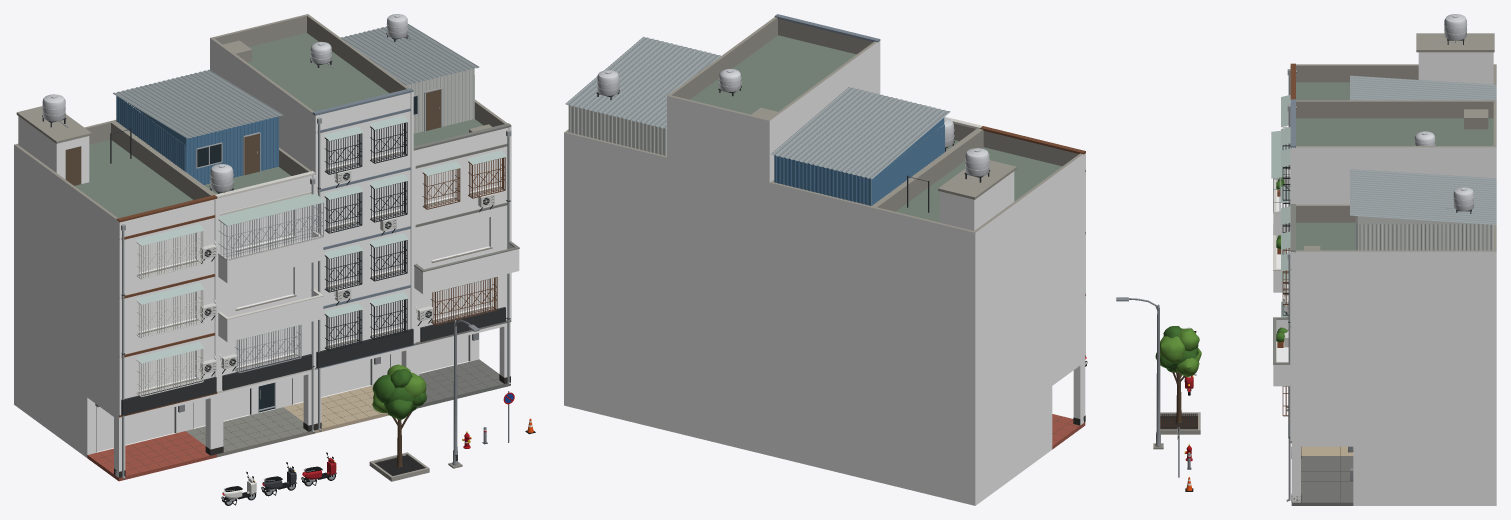
File: street30.glb
The picture shows the model from 3 angles, left to right: view 1: azimuth 30°, elevation 25°; view 2: azimuth 150°, elevation 25°; view 3: azimuth 270°, elevation 25°; orthographic projection. The views are drawn at different scales.
Parts seen in each view (by area): view 1: S30_Shophouse_A, S30_Shophouse_C, S30_Shophouse_B, S30_Shophouse_D, S30_StreetTree, S30_Shophouse_C_Sign, S30_Shophouse_A_Sign, S30_Shophouse_B_Sign, S30_Shophouse_D_Sign, S30_LampPost, S30_Scooter_A; view 2: S30_Shophouse_A, S30_Shophouse_C, S30_Shophouse_B, S30_Shophouse_D; view 3: S30_Shophouse_D, S30_Shophouse_C, S30_Shophouse_A, S30_Shophouse_B, S30_StreetTree, S30_LampPost.
Boxes of the visible parts, x1,y1,x2,y2 form: S30_Shophouse_A: (14, 94, 217, 481); S30_Shophouse_C: (210, 14, 413, 433); S30_Shophouse_B: (112, 69, 324, 457); S30_Shophouse_D: (341, 14, 519, 408); S30_StreetTree: (369, 364, 429, 481); S30_Shophouse_C_Sign: (316, 328, 413, 368); S30_Shophouse_A_Sign: (121, 377, 216, 415); S30_Shophouse_B_Sign: (222, 354, 311, 390); S30_Shophouse_D_Sign: (420, 307, 505, 341); S30_LampPost: (448, 319, 479, 468); S30_Scooter_A: (221, 471, 256, 505); S30_Shophouse_A: (872, 126, 1085, 505); S30_Shophouse_C: (667, 14, 880, 455); S30_Shophouse_B: (769, 87, 982, 480); S30_Shophouse_D: (564, 36, 720, 430); S30_Shophouse_D: (1273, 169, 1496, 505); S30_Shophouse_C: (1281, 99, 1496, 455); S30_Shophouse_A: (1281, 14, 1496, 317); S30_Shophouse_B: (1271, 75, 1496, 408); S30_StreetTree: (1155, 326, 1201, 434); S30_LampPost: (1116, 297, 1163, 449).
Size of the model in its own units: 21.6 by 16.95 by 18.56.
